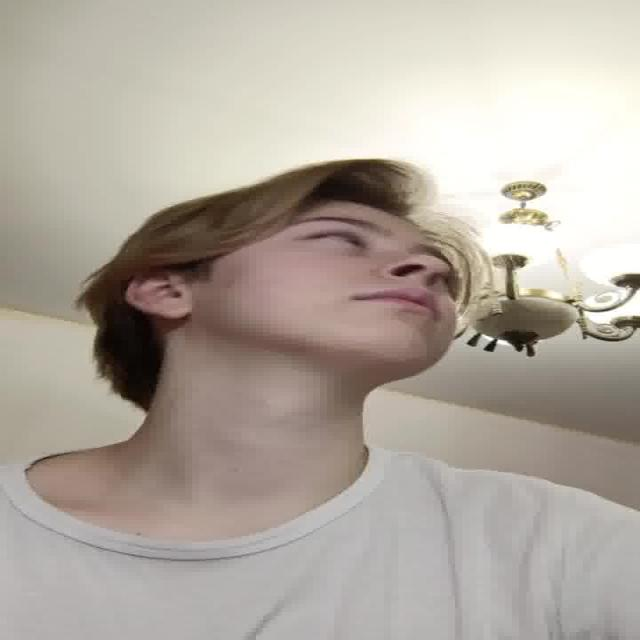earlobe: (153, 297, 193, 320)
eye: (304, 232, 368, 246)
nose: (382, 270, 446, 296)
wholeear: (123, 269, 193, 320)
